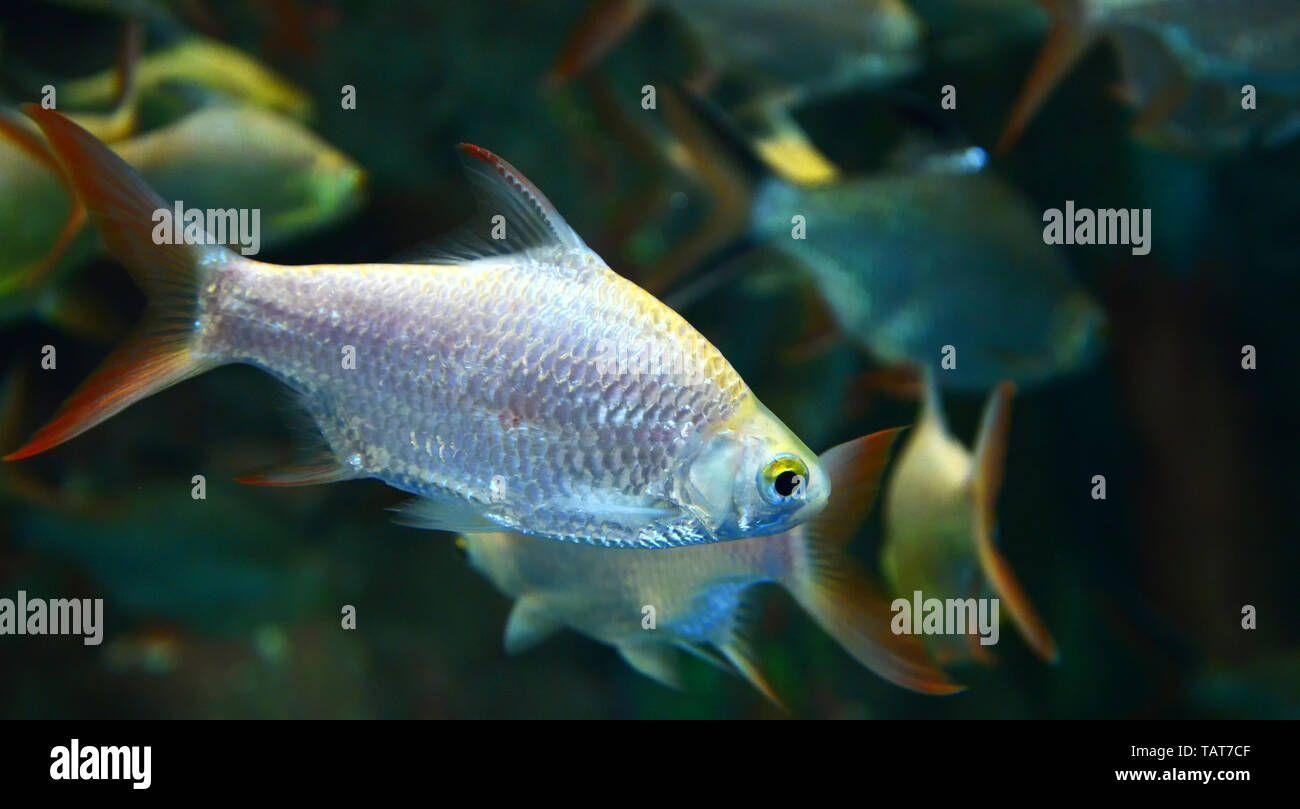Silver Barb: (35, 96, 846, 572)
